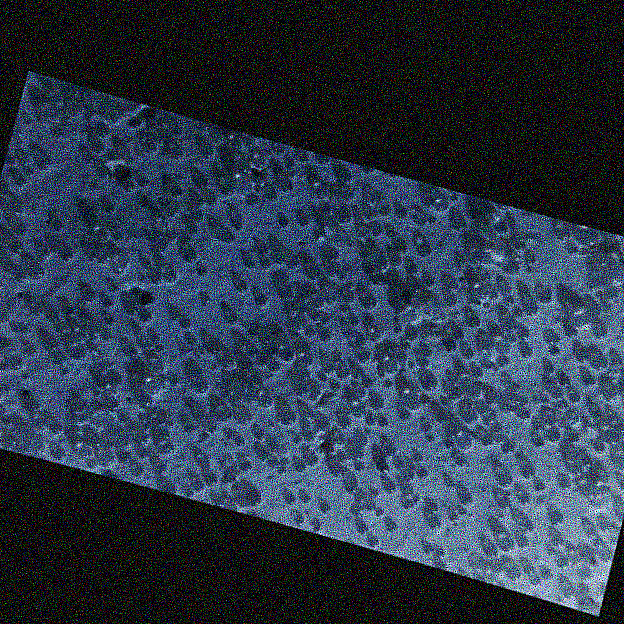GrassBeadSeg: (44, 109, 515, 553), (136, 186, 570, 569), (228, 138, 623, 489), (85, 154, 514, 468), (73, 297, 543, 581), (88, 256, 533, 532), (29, 246, 578, 454), (120, 185, 524, 466), (74, 257, 582, 477), (38, 157, 529, 372), (168, 126, 594, 367), (51, 211, 429, 478), (226, 182, 547, 491), (177, 231, 594, 468), (41, 111, 375, 389), (138, 196, 487, 459), (138, 177, 379, 546), (69, 346, 564, 525), (76, 252, 415, 510), (162, 291, 585, 494), (142, 177, 590, 363), (53, 220, 428, 431), (222, 295, 529, 550), (119, 253, 557, 425), (67, 152, 332, 435), (209, 227, 571, 429), (246, 272, 499, 559), (115, 327, 435, 553), (183, 249, 440, 530), (49, 209, 353, 432), (75, 305, 514, 459), (315, 157, 608, 371), (53, 276, 375, 460), (212, 231, 448, 479), (194, 336, 511, 515), (194, 176, 385, 471), (154, 257, 423, 461), (150, 334, 560, 462), (323, 331, 523, 582), (412, 211, 542, 586), (341, 188, 529, 447), (235, 178, 531, 340), (121, 160, 256, 506), (86, 457, 484, 573), (422, 195, 571, 490), (60, 368, 412, 490), (141, 254, 613, 344), (192, 380, 531, 505), (123, 265, 295, 505), (159, 417, 446, 559), (97, 342, 412, 467), (323, 295, 512, 502), (278, 240, 429, 498), (139, 227, 399, 373), (255, 245, 560, 369), (150, 335, 542, 431), (392, 242, 580, 442), (195, 267, 608, 357), (228, 314, 397, 533), (154, 115, 258, 454), (209, 194, 399, 374), (118, 245, 269, 464), (158, 338, 494, 436), (347, 447, 592, 581), (238, 316, 377, 546), (217, 353, 398, 529), (259, 258, 413, 459), (107, 374, 305, 526), (189, 241, 408, 378), (322, 251, 444, 494), (132, 442, 546, 513), (340, 304, 545, 446), (193, 304, 429, 422), (366, 416, 566, 555), (122, 180, 307, 328), (109, 316, 332, 437), (304, 268, 478, 423), (91, 126, 177, 439), (245, 195, 363, 418), (337, 240, 488, 414), (25, 358, 509, 412), (237, 184, 579, 256), (140, 310, 439, 390), (343, 253, 610, 341), (333, 243, 432, 477), (322, 254, 513, 375), (104, 400, 295, 517), (125, 303, 550, 353), (384, 243, 468, 494), (115, 227, 251, 381), (195, 327, 578, 381), (329, 330, 465, 476), (92, 390, 261, 506), (25, 118, 95, 390), (10, 293, 267, 366), (300, 327, 515, 414), (377, 507, 578, 600), (225, 316, 420, 411), (161, 429, 414, 497), (388, 281, 459, 522), (154, 394, 360, 475), (311, 188, 384, 416), (484, 418, 586, 573), (23, 229, 109, 410), (200, 423, 376, 509), (137, 271, 205, 491), (313, 184, 359, 501), (99, 426, 458, 465), (169, 138, 242, 322), (420, 422, 620, 487), (442, 295, 527, 446), (153, 334, 433, 377), (13, 88, 82, 260), (131, 395, 269, 479), (135, 378, 223, 506), (203, 473, 512, 509), (421, 396, 513, 512), (359, 337, 483, 423), (348, 188, 486, 265), (520, 347, 567, 559), (483, 420, 563, 544), (215, 376, 432, 421), (183, 257, 292, 345), (354, 410, 530, 462), (293, 384, 366, 504), (374, 258, 540, 308), (485, 353, 578, 442), (388, 229, 599, 267), (278, 265, 374, 346), (220, 182, 251, 425), (191, 337, 366, 380), (401, 316, 480, 410), (365, 401, 469, 469), (445, 344, 505, 457), (34, 390, 152, 447), (472, 553, 593, 607), (91, 142, 146, 259), (257, 450, 361, 507), (403, 464, 504, 519), (7, 99, 76, 179), (456, 523, 552, 580), (235, 225, 307, 295), (283, 171, 380, 222), (166, 419, 220, 507), (1, 294, 75, 355), (465, 207, 533, 273), (410, 261, 530, 298), (97, 374, 181, 426), (583, 440, 623, 539), (279, 154, 333, 227), (164, 430, 237, 484), (574, 249, 622, 327), (507, 251, 600, 291), (457, 435, 537, 478), (168, 188, 192, 330), (413, 276, 490, 320), (191, 211, 214, 354), (551, 231, 577, 356), (0, 346, 38, 429), (280, 348, 358, 388), (147, 120, 255, 148), (457, 237, 524, 282), (407, 332, 517, 359), (457, 389, 496, 464), (0, 264, 44, 326), (485, 356, 540, 405), (320, 502, 442, 524), (237, 358, 282, 415), (224, 431, 303, 463), (349, 369, 366, 516), (203, 395, 235, 471), (234, 265, 322, 292), (278, 433, 310, 503), (86, 250, 124, 307), (334, 282, 360, 364), (586, 376, 623, 433), (149, 130, 224, 158), (15, 224, 73, 260), (197, 328, 258, 361), (257, 430, 314, 465), (295, 419, 331, 471), (584, 356, 623, 403), (373, 207, 432, 237), (3, 408, 43, 452), (448, 272, 510, 300), (53, 422, 195, 434), (203, 379, 235, 432), (546, 431, 623, 453), (429, 183, 465, 230), (128, 141, 208, 162), (310, 374, 350, 416), (300, 327, 316, 431), (366, 330, 395, 387), (349, 339, 392, 377), (410, 434, 455, 470), (96, 252, 151, 281), (85, 290, 116, 341), (266, 333, 311, 367), (534, 364, 571, 404), (343, 417, 387, 450), (455, 494, 503, 524), (151, 224, 198, 254), (247, 136, 269, 199), (254, 409, 297, 441), (97, 126, 132, 165), (269, 147, 294, 201), (386, 331, 417, 373), (546, 538, 611, 558), (425, 184, 458, 223), (607, 289, 623, 366), (171, 202, 203, 240), (95, 356, 112, 427), (115, 226, 190, 242), (17, 117, 34, 186), (5, 230, 26, 281), (228, 349, 257, 385), (48, 328, 95, 350), (444, 426, 460, 490), (301, 299, 322, 345), (165, 250, 193, 283), (282, 287, 336, 304), (366, 463, 389, 502), (334, 371, 366, 398), (292, 305, 320, 335), (355, 205, 403, 221), (326, 264, 348, 296), (558, 393, 599, 410), (0, 393, 17, 433), (154, 336, 198, 351), (324, 249, 373, 262), (310, 437, 342, 456), (506, 303, 527, 329), (174, 209, 191, 240), (276, 146, 307, 162), (304, 411, 326, 432), (250, 348, 271, 370), (425, 278, 458, 291), (589, 523, 605, 549), (600, 522, 610, 563), (379, 444, 393, 471), (242, 376, 257, 400), (283, 287, 308, 300), (146, 378, 161, 395), (161, 211, 175, 229), (501, 319, 515, 333), (552, 390, 568, 402), (230, 392, 257, 399), (158, 229, 174, 238), (316, 295, 329, 304), (157, 224, 166, 237), (308, 456, 319, 466), (299, 343, 309, 353), (252, 377, 261, 388), (516, 409, 525, 419), (337, 435, 346, 445), (531, 308, 541, 317), (278, 289, 286, 300), (373, 260, 381, 271), (338, 417, 345, 429), (286, 288, 293, 300), (382, 257, 388, 271), (345, 420, 353, 430), (484, 417, 492, 426), (390, 445, 396, 457), (272, 362, 279, 372), (170, 208, 180, 215), (204, 431, 210, 442), (365, 505, 373, 511), (236, 395, 241, 404), (230, 400, 237, 405), (207, 464, 211, 472), (381, 470, 388, 474), (114, 226, 120, 230), (384, 451, 389, 455), (250, 401, 256, 404), (247, 382, 251, 386), (244, 401, 249, 403), (376, 256, 381, 258), (559, 545, 561, 547)
